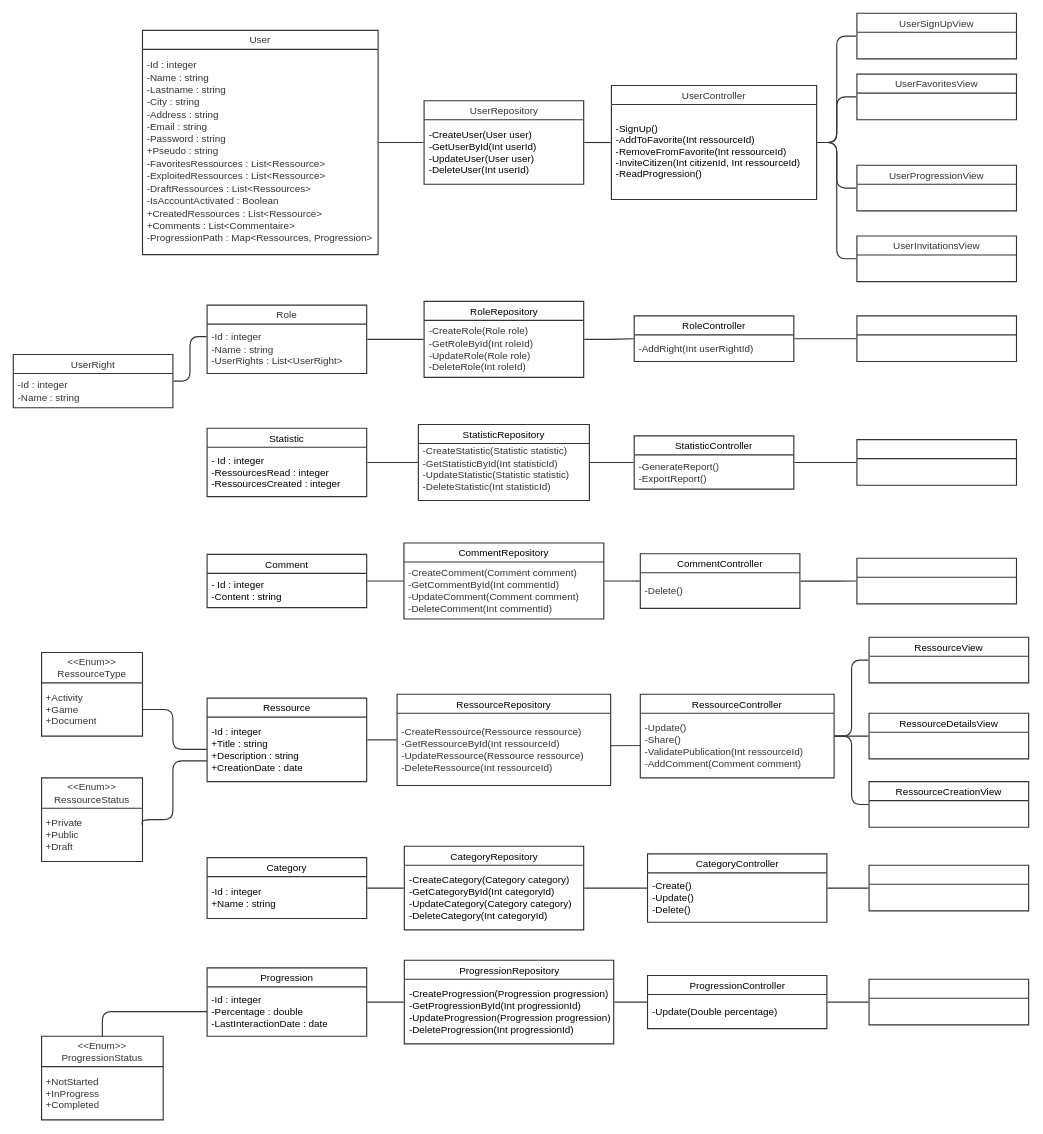
This 1043x1134 diagram has some shape labels left out. The centre of each missing label's shape, as x and y in pixels:
CategoryManagerView: point 948,887
CommentManagerView: point 936,580
ProgressionUserView: point 948,1001
RoleManagerView: point 936,338
StatisticDashboardView: point 936,462
